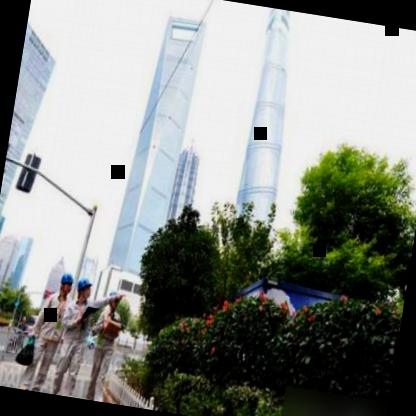helmet: (54, 270, 75, 301), (75, 276, 93, 303)
